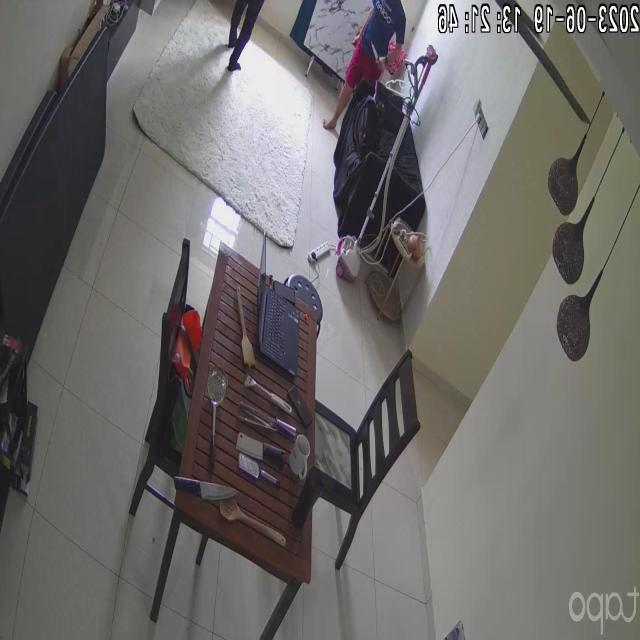Knife: (170, 466, 247, 509)
